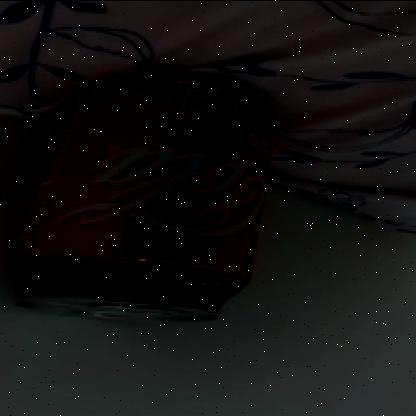Can: (6, 67, 280, 322)
